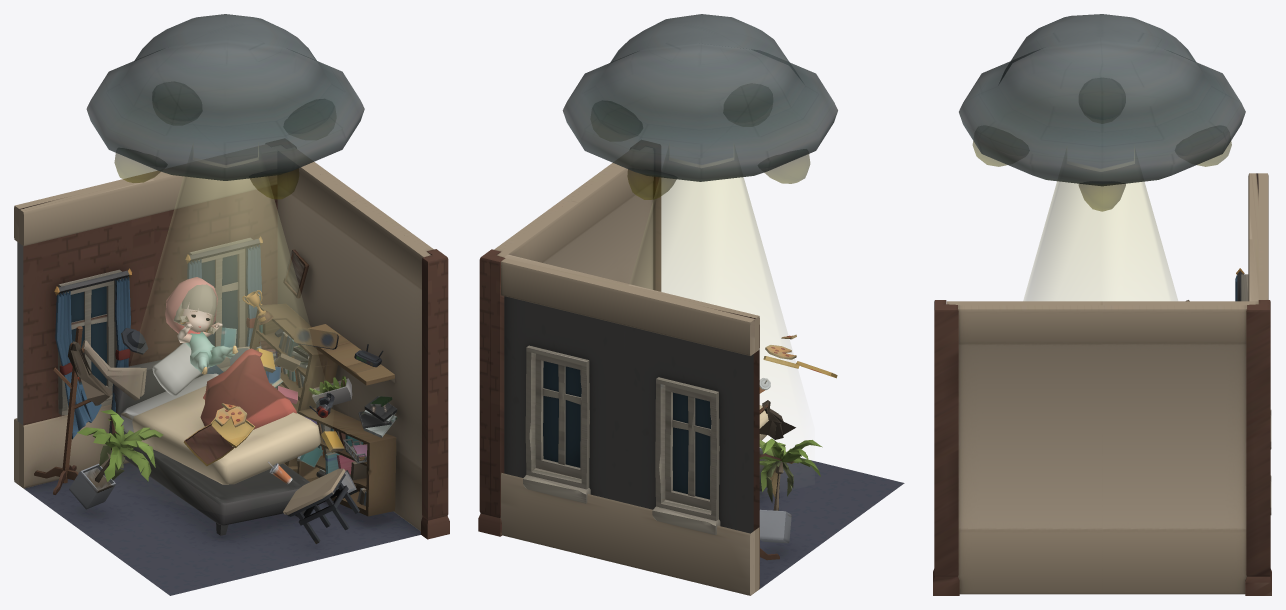
File: challenge_isometric_room--kidnap.glb
3 renders of one model, left to right at view 1: azimuth 30°, elevation 25°; view 2: azimuth 150°, elevation 25°; view 3: azimuth 270°, elevation 25°, orthographic. The views are drawn at different scales.
Visible parts, largest first — view 1: Object002_Room_0, Cylinder001, UFO, room, Object003_Room_0, Object001_UFO_0, Girl; view 2: Object002_Room_0, UFO, Cylinder001, Object001_UFO_0, room; view 3: Object002_Room_0, UFO, Cylinder001, Object001_UFO_0.
Part boxes in pixels (x1=…): Object002_Room_0: x1=14, y1=139, x2=449, y2=595; Cylinder001: x1=133, y1=146, x2=318, y2=423; UFO: x1=86, y1=14, x2=364, y2=180; room: x1=34, y1=249, x2=397, y2=543; Object003_Room_0: x1=109, y1=343, x2=320, y2=535; Object001_UFO_0: x1=114, y1=82, x2=333, y2=199; Girl: x1=165, y1=277, x2=238, y2=374; Object002_Room_0: x1=478, y1=140, x2=904, y2=595; UFO: x1=562, y1=14, x2=837, y2=181; Cylinder001: x1=630, y1=157, x2=793, y2=406; Object001_UFO_0: x1=593, y1=83, x2=810, y2=199; room: x1=759, y1=334, x2=837, y2=560; Object002_Room_0: x1=933, y1=173, x2=1271, y2=595; UFO: x1=959, y1=14, x2=1245, y2=185; Cylinder001: x1=1023, y1=147, x2=1177, y2=300; Object001_UFO_0: x1=972, y1=78, x2=1231, y2=211.
Size of the model in its own units: 310 by 527 by 323.
4 materials, 4 textured.
